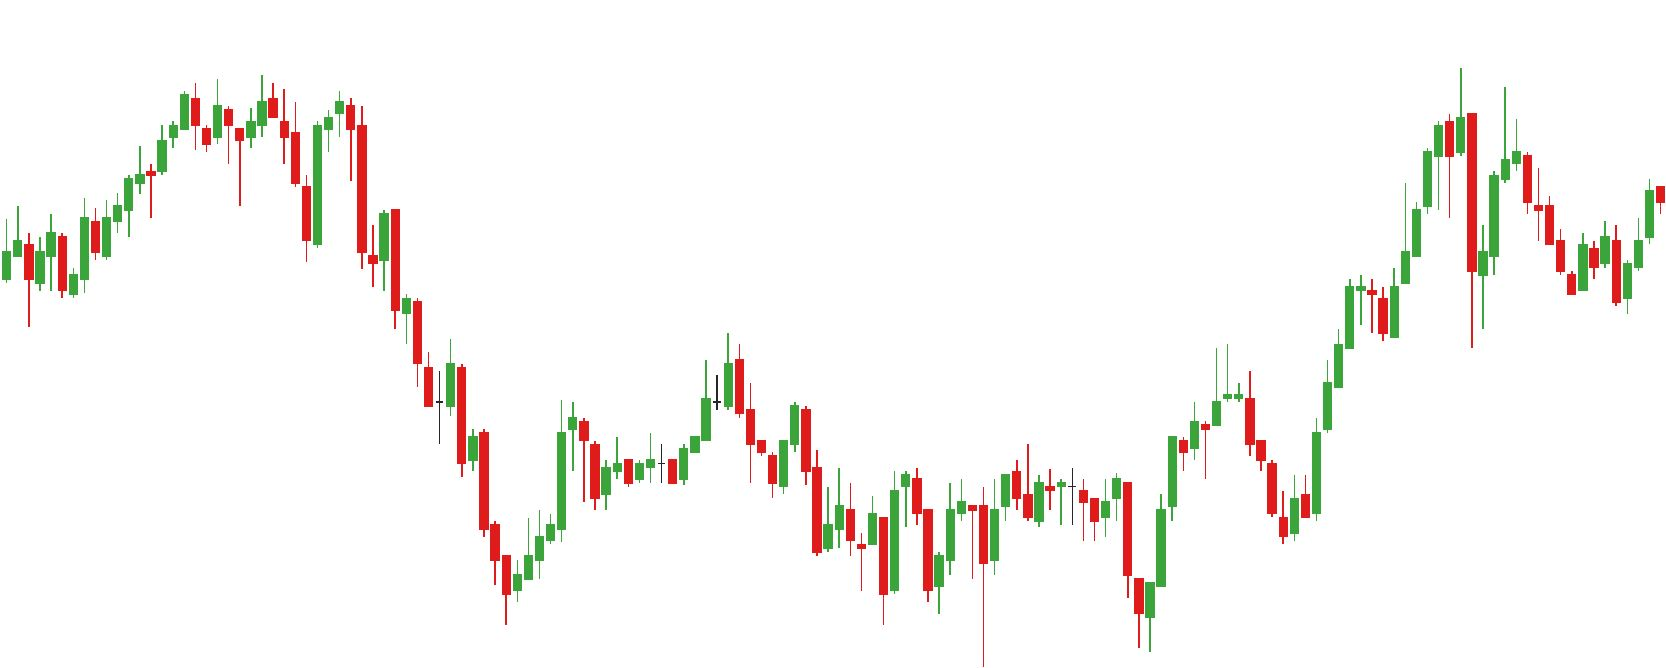buy: (878, 498, 1000, 665)
